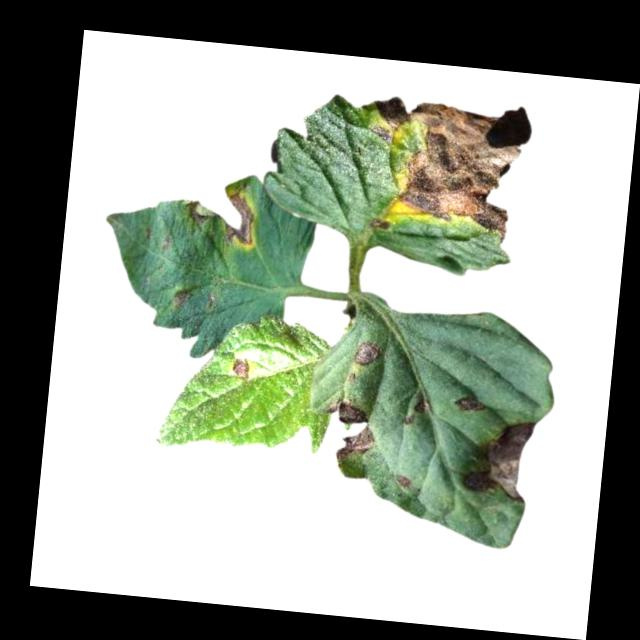Early_blight: (357, 92, 537, 244), (461, 411, 539, 504), (180, 178, 261, 249), (319, 393, 379, 461), (401, 396, 432, 428), (349, 337, 381, 366), (455, 389, 484, 414), (232, 356, 252, 380), (170, 286, 190, 306), (395, 470, 411, 488)
